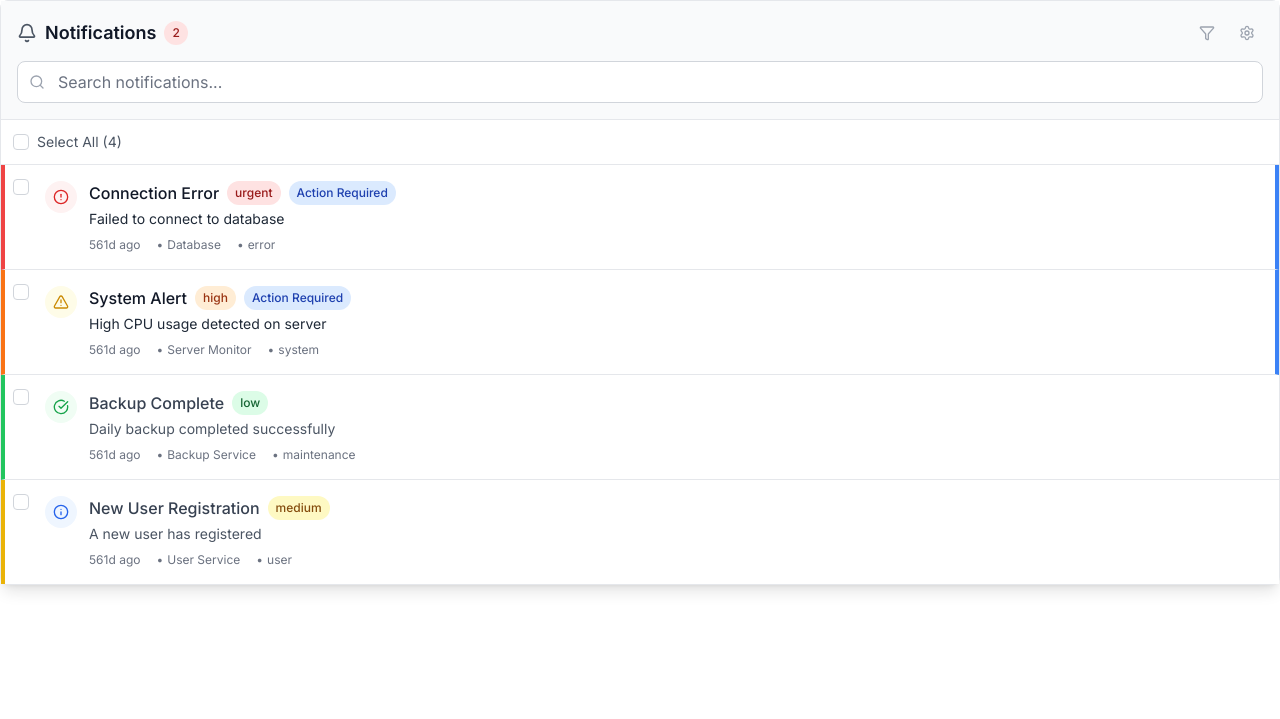
Test: NotificationPanel Component › Filtering › shows filters panel when filter button is clicked
This screenshot has width=1280, height=719.
Click the button titled "Filters": (1207, 33) top-left (1191, 17), bottom-right (1223, 49)
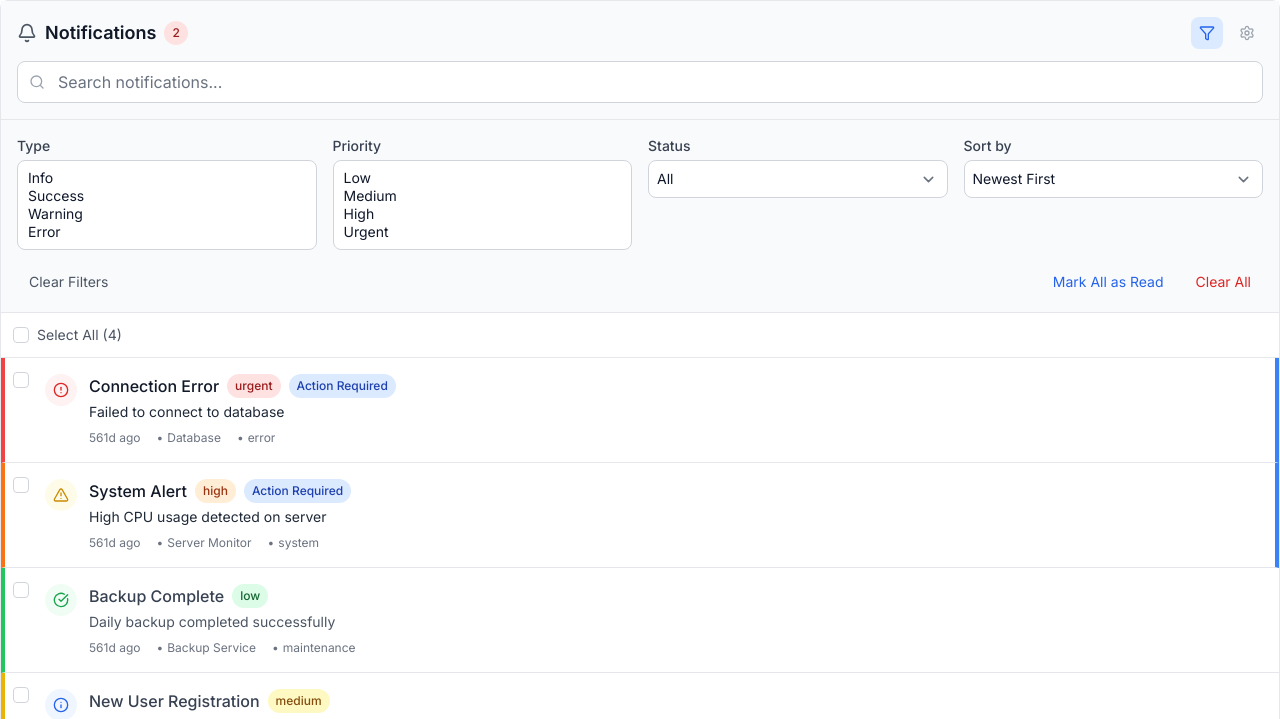
Now the text "Type" is shown, box top-left (17, 137), bottom-right (50, 154)
Now the text "Priority" is shown, box top-left (332, 137), bottom-right (381, 154)
Now the text "Status" is shown, box top-left (648, 137), bottom-right (691, 154)
